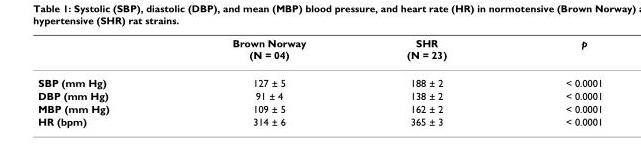table: (37, 36, 602, 127)
table column: (170, 36, 355, 127), (355, 36, 505, 127), (37, 36, 170, 127), (505, 36, 602, 127)
table column header: (37, 36, 602, 68)
table row: (37, 36, 602, 68), (37, 68, 602, 88), (37, 88, 602, 101), (37, 101, 602, 114), (37, 114, 602, 127)
